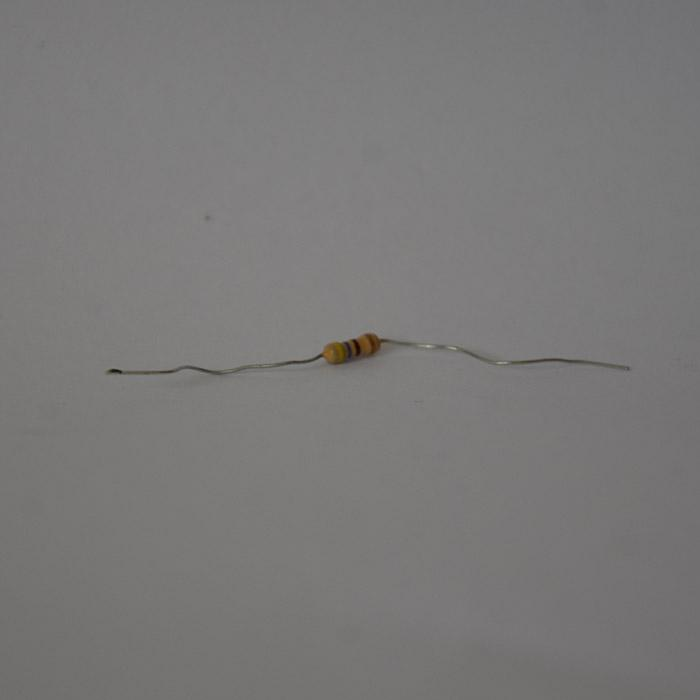resistor: (332, 318, 365, 379)
